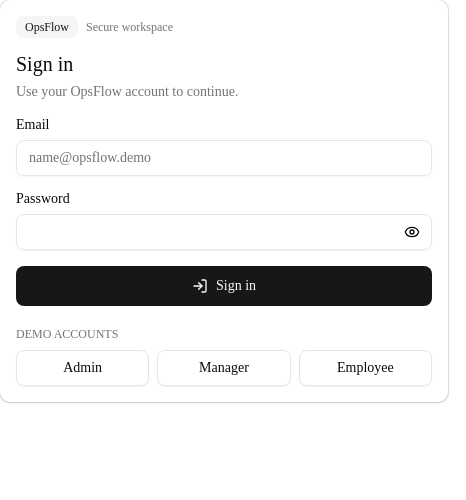
Test: login form › shows invalid credential errors from the backend
Type "manager@opsflow.demo" into the field labelled "Email". click: (224, 158)
box: [16, 140, 432, 176]
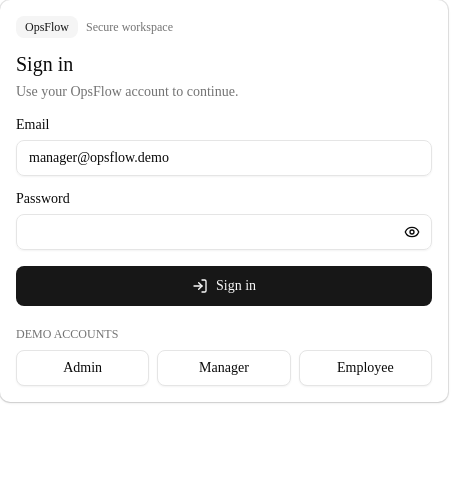
Type "wrong-password" into the password field labelled "Password". click: (224, 232)
box: [16, 214, 432, 250]
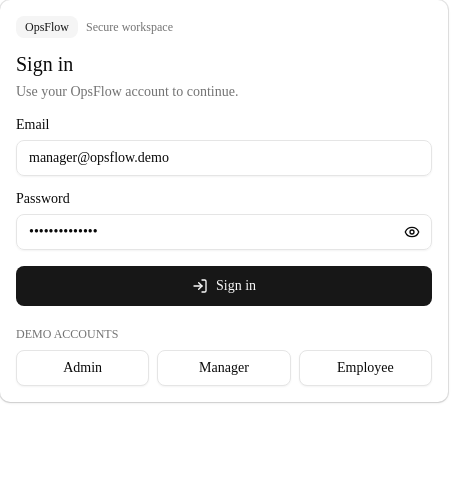
Click the button "Sign in". click: click(224, 286)
box: [16, 266, 432, 306]
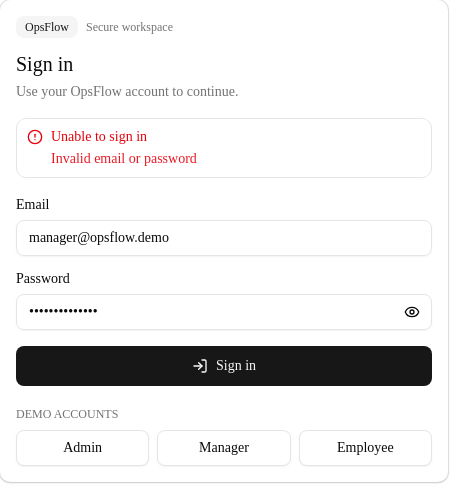
Result: the text "Unable to sign in" is shown at [51, 129, 147, 144]
Result: the text "Invalid email or password" is shown at [51, 151, 197, 166]
